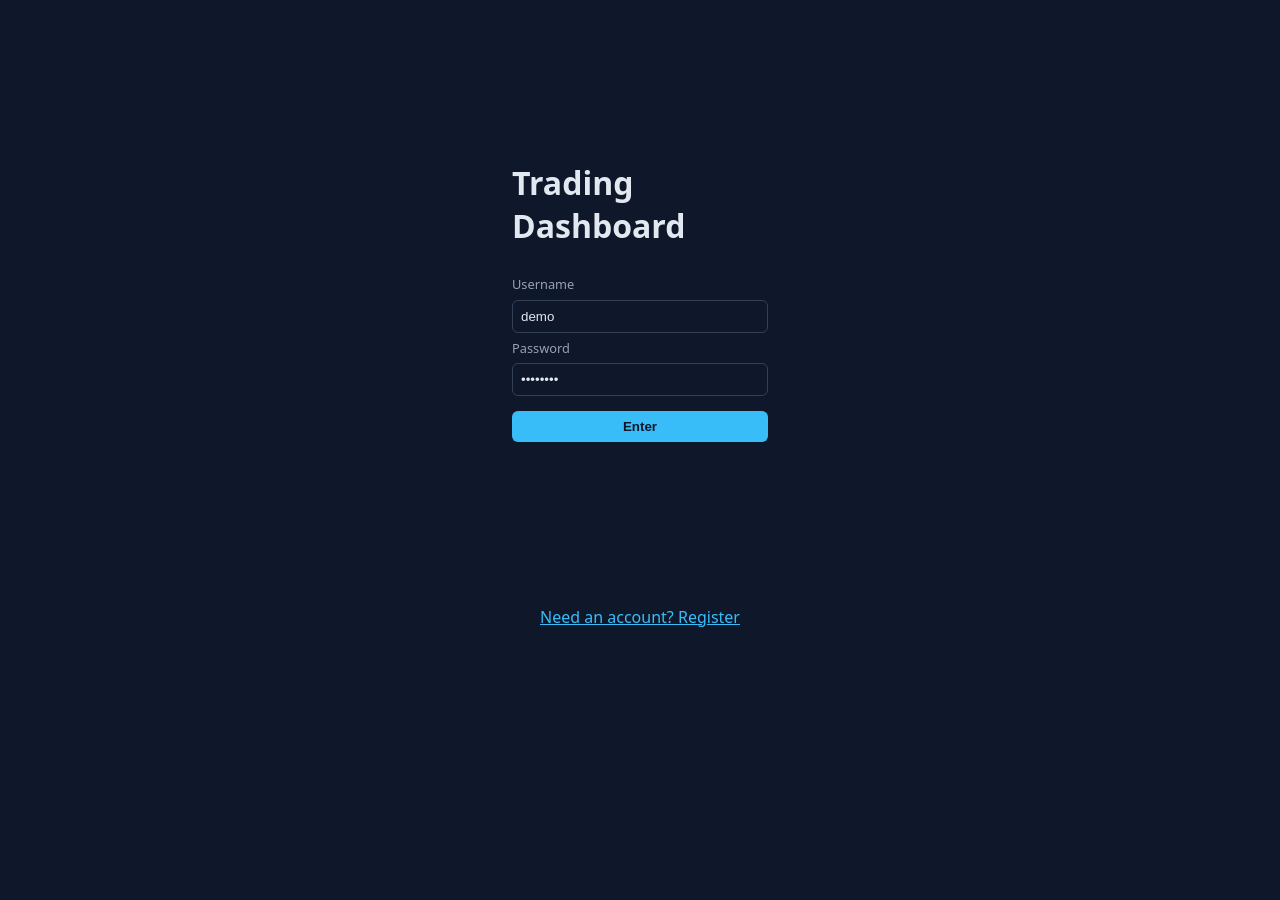
App › shows login again after logout and clears sessionStorage
Click the button "Enter" at (640,426), box [512,411,768,442]
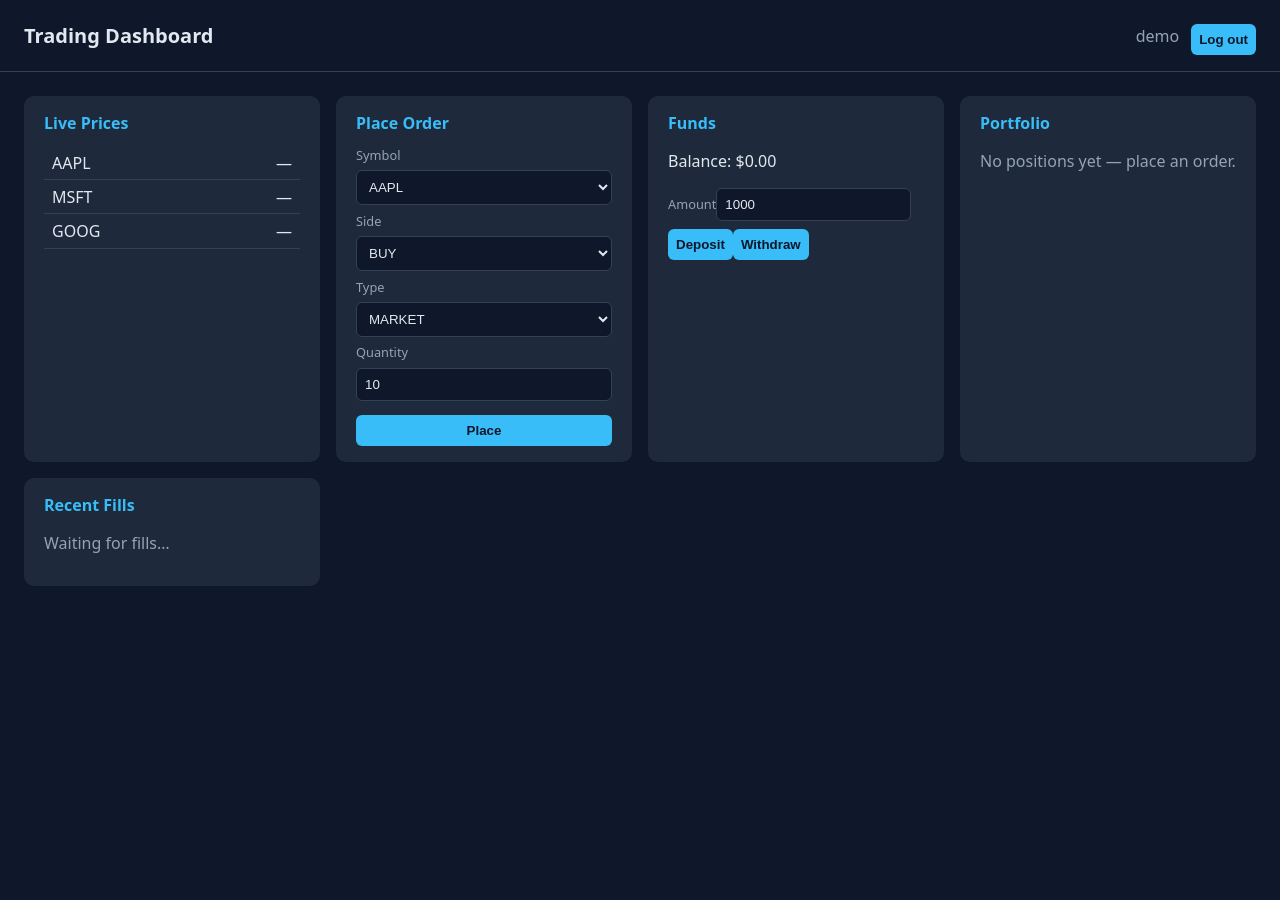
Expected: the button "Log out" is shown
Click the button "Log out" at (1224,40), box [1191,24,1256,55]
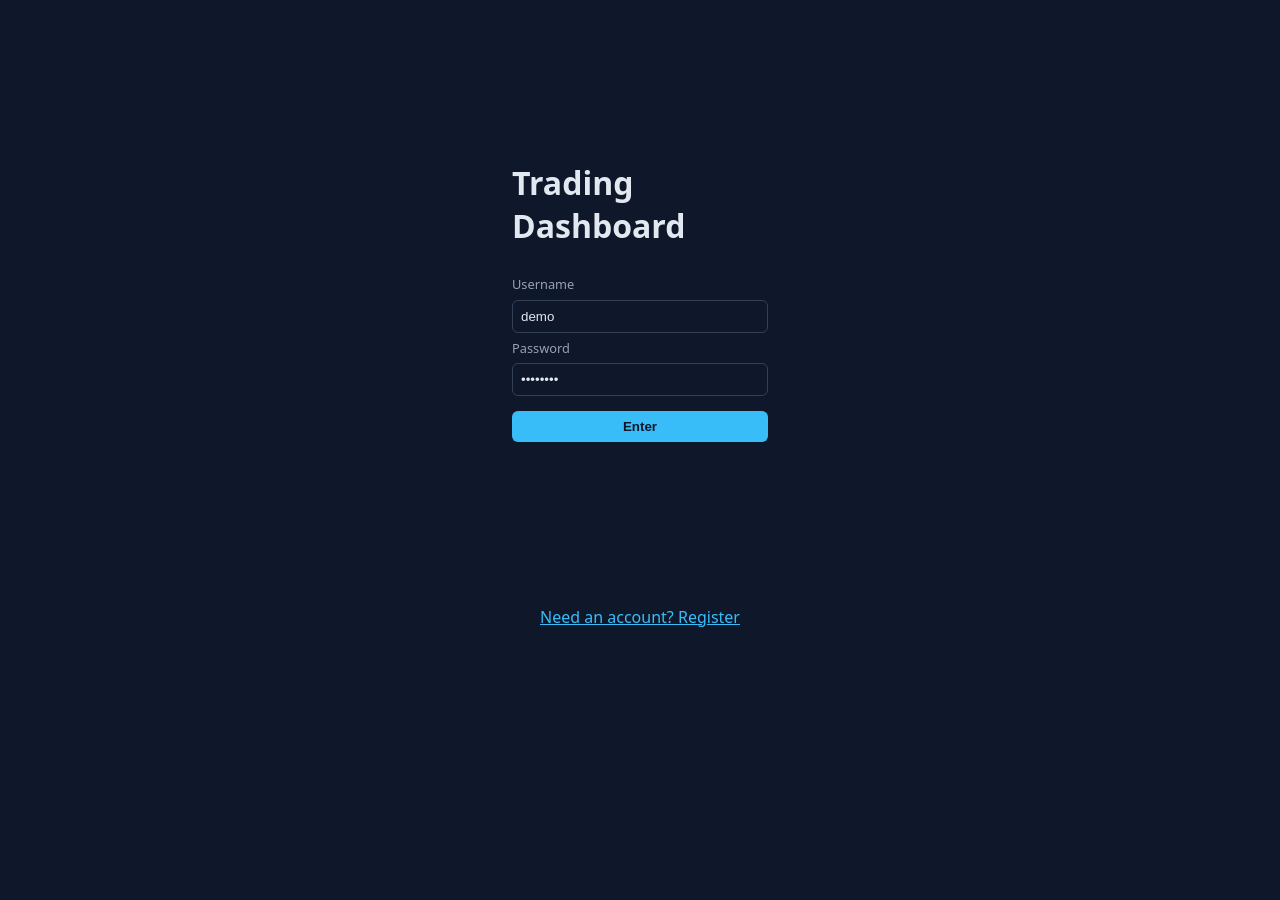
Expected: the button "Enter" is shown, [512,411,768,442]
